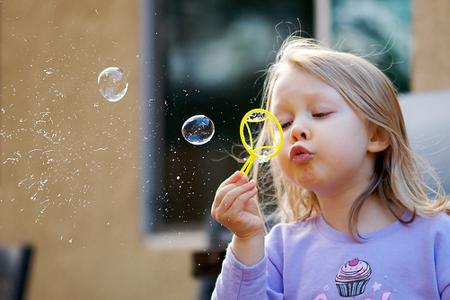person: (203, 38, 449, 299)
